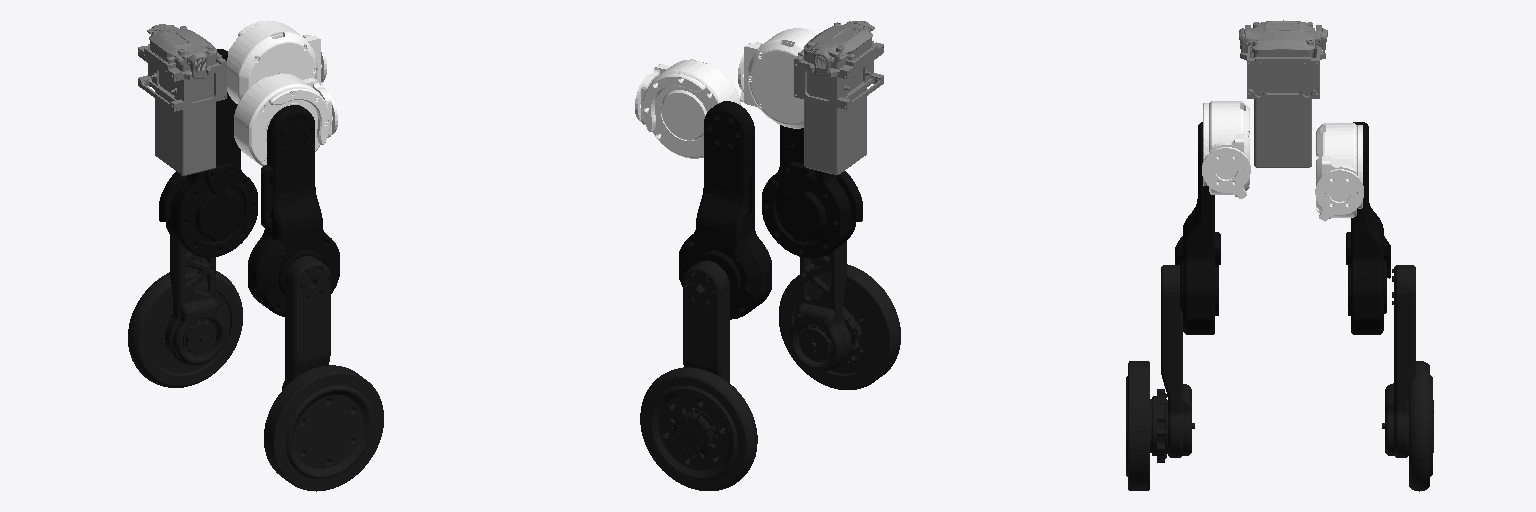
The robot description file, URDF, robot "pineapple_v1":
<?xml version="1.0" encoding="utf-8"?>
<!-- This URDF was automatically created by SolidWorks to URDF Exporter! Originally created by Stephen Brawner (brawner@gmail.com) 
     Commit Version: 1.6.0-4-g7f85cfe  Build Version: 1.6.7995.38578
     For more information, please see http://wiki.ros.org/sw_urdf_exporter -->
<robot
  name="pineapple_v1">
  <mujoco>
    <compiler
      meshdir="v1/meshes"
      balanceinertia="true"
      discardvisual="false" />
  </mujoco>
  <link
    name="base_link">
    <inertial>  
      <origin
        xyz="0.03425855 0.00006357 0.07778567"
        rpy="0 0 0" />
      <mass
        value="2.99" />
      <inertia
        ixx="0.01519872"
        ixy="0.000007367"
        ixz="0.00256248"
        iyy="0.02158004"
        iyz="-0.00001102"
        izz="0.02428081" />
    </inertial>
    <visual>
      <origin
        xyz="0 0 0"
        rpy="0 0 0" />
      <geometry>
        <mesh
          filename="package://v1/meshes/base_link.STL" />
      </geometry>
      <material
        name="">
        <color
          rgba="0.1451 0.1451 0.1451 1" />
      </material>
    </visual>
    <collision>
      <origin
        xyz="0.0075 0 0.05"
        rpy="0 0 0" />
      <geometry>
        <box size="0.255 0.1 0.1"/>
      </geometry>
    </collision>
    <collision>
      <origin
        xyz="-0.0285 0 0.130"
        rpy="0 0 0" />
      <geometry>
        <box size="0.213 0.125 0.06"/>
      </geometry>
    </collision>
    <collision>
      <origin
        xyz="0.078 -0.075 0.05"
        rpy="0 0 0" />
      <geometry>
        <box size="0.05 0.05 0.1"/>
      </geometry>
    </collision>
    <collision>
      <origin
        xyz="0.078 0.075 0.05"
        rpy="0 0 0" />
      <geometry>
        <box size="0.05 0.05 0.1"/>
      </geometry>
    </collision>
  </link>
  <link
    name="battery">
    <inertial>
      <origin
        xyz="-0.095007 -3.4328E-06 0.093415"
        rpy="0 0 0" />
      <mass
        value="0.64" />
      <inertia
        ixx="0.00147269"
        ixy="0.0"
        ixz="0.00003683"
        iyy="0.00136181"
        iyz="0.00000013"
        izz="0.00038215" />
    </inertial>
    <visual>
      <origin
        xyz="0 0 0"
        rpy="0 0 0" />
      <geometry>
        <mesh
          filename="package://v1/meshes/battery.STL" />
      </geometry>
      <material
        name="">
        <color
          rgba="0.53725 0.53725 0.53725 1" />
      </material>
    </visual>
  </link>
  <joint
    name="battery_fix"
    type="fixed">
    <origin
      xyz="0 0 0"
      rpy="0 0 0" />
    <parent
      link="base_link" />
    <child
      link="battery" />
    <axis
      xyz="0 0 0" />
  </joint>
  <link
    name="L_hip">
    <inertial>
      <origin
        xyz="-0.054201 -0.0016168 0.00050585"
        rpy="0 0 0" />
      <mass
        value="0.585" />
      <inertia
        ixx="0.00045956"
        ixy="-0.00000742"
        ixz="-0.00000128"
        iyy="0.00077661"
        iyz="0.00000917"
        izz="0.00050968"/>
    </inertial>
    <visual>
      <origin
        xyz="0 0 0"
        rpy="0 0 0" />
      <geometry>
        <mesh
          filename="package://v1/meshes/L_hip.STL" />
      </geometry>
      <material
        name="">
        <color
          rgba="1 1 1 1" />
      </material>
    </visual>
  </link>
  <joint
    name="L_hip_joint"
    type="revolute">
    <origin
      xyz="0.047159 0.06125 0.066001"
      rpy="0 0 0" />
    <parent
      link="base_link" />
    <child
      link="L_hip" />
    <axis
      xyz="1 0 0" />
    <limit
      lower="-0.52358"
      upper="0.17444"
      effort="23.7"
      velocity="30.1" />
  </joint>
  <link
    name="L_thigh">
    <inertial>
      <origin
        xyz="-0.0014005 0.015871 -0.13295"
        rpy="0 0 0" />
      <mass
        value="0.911" />
      <inertia
        ixx="0.00359239"
        ixy="0.00001718"
        ixz="-0.00000539"
        iyy="0.00399866"
        iyz="0.00016395"
        izz="0.00085307" />
    </inertial>
    <visual>
      <origin
        xyz="0 0 0"
        rpy="0 0 0" />
      <geometry>
        <mesh
          filename="package://v1/meshes/L_thigh.STL" />
      </geometry>
      <material
        name="">
        <color
          rgba="0.098039 0.098039 0.098039 1" />
      </material>
    </visual>
    <collision>
      <origin
        xyz="0.0003 0.0095 -0.049"
        rpy="0 0 0" />
      <geometry>
       <box size="0.055 0.019 0.12"/>
      </geometry>
    </collision>
    <collision>
      <origin
        xyz="0 0.0175 -0.165"
        rpy="1.5707963267948966 0 0" />
      <geometry>
       <cylinder radius="0.0515" length="0.035"/>
      </geometry>
    </collision>
  </link>
  <joint
    name="L_thigh_joint"
    type="revolute">
    <origin
      xyz="-0.05675 0.01995 0"
      rpy="0 0 0" />
    <parent
      link="L_hip" />
    <child
      link="L_thigh" />
    <axis
      xyz="0 1 0" />
    <limit
      lower="0"
      upper="1.57"
      effort="23.7"
      velocity="30.1" />
  </joint>
  <link
    name="L_calf">
    <inertial>
      <origin
        xyz="-7.3933E-05 0.014526 -0.11981"
        rpy="0 0 0" />
      <mass
        value="0.567" />
      <inertia
        ixx="0.00246258"
        ixy="-0.00000032"
        ixz="0.00000235"
        iyy="0.00252067"
        iyz="0.00007208"
        izz="0.00022736" />
    </inertial>
    <visual>
      <origin
        xyz="0 0 0"
        rpy="0 0 0" />
      <geometry>
        <mesh
          filename="package://v1/meshes/L_calf.STL" />
      </geometry>
      <material
        name="">
        <color
          rgba="0.1451 0.1451 0.1451 1" />
      </material>
    </visual>
    <collision>
      <origin
        xyz="-0.0006 0.0118 -0.0465"
        rpy="0 0 0" />
      <geometry>
        <box size="0.048 0.0236 0.093"/>
      </geometry>
    </collision>
  </link>
  <joint
    name="L_calf_joint"
    type="revolute">
    <origin
      xyz="0 0.0383 -0.165"
      rpy="0 0 0" />
    <parent
      link="L_thigh" />
    <child
      link="L_calf" />
    <axis
      xyz="0 1 0" />
    <limit
      lower="-3.141"
      upper="0"
      effort="23.7"
      velocity="30.1" />
  </joint>
  <link
    name="L_wheel">
    <inertial>
      <origin
        xyz="2.7442E-11 0.0095126 -9.3096E-11"
        rpy="0 0 0" />
      <mass
        value="0.35" />
      <inertia
        ixx="0.00056018"
        ixy="0"
        ixz="0"
        iyy="0.00108926"
        iyz="0"
        izz="0.00056018" />
    </inertial>
    <visual>
      <origin
        xyz="0 0 0"
        rpy="0 0 0" />
      <geometry>
        <mesh
          filename="package://v1/meshes/L_wheel.STL" />
      </geometry>
      <material
        name="">
        <color
          rgba="0.15294 0.15294 0.15294 1" />
      </material>
    </visual>
    <collision>
      <origin
        xyz="0 0.0085 0"
        rpy="1.5707963267948966 0 0" />
      <geometry>
        <cylinder radius="0.07" length="0.023"/>
      </geometry>
    </collision>
  </link>
  <joint
    name="L_wheel_joint"
    type="revolute">
    <origin
      xyz="0 0.02705 -0.165"
      rpy="0 0 0" />
    <parent
      link="L_calf" />
    <child
      link="L_wheel" />
    <axis
      xyz="0 1 0" />
    <limit
      effort="3.69"
      velocity="60" />
  </joint>
  <link
    name="R_hip">
    <inertial>
      <origin
        xyz="-0.054201 0.0016168 0.00050585"
        rpy="0 0 0" />
      <mass
        value="0.585" />
      <inertia
        ixx="0.00045956"
        ixy="0.00000742"
        ixz="-0.00000128"
        iyy="0.00077661"
        iyz="0.00000917"
        izz="0.00050968" />
    </inertial>
    <visual>
      <origin
        xyz="0 0 0"
        rpy="0 0 0" />
      <geometry>
        <mesh
          filename="package://v1/meshes/R_hip.STL" />
      </geometry>
      <material
        name="">
        <color
          rgba="1 1 1 1" />
      </material>
    </visual>
  </link>
  <joint
    name="R_hip_joint"
    type="revolute">
    <origin
      xyz="0.047159 -0.06125 0.066001"
      rpy="0 0 0" />
    <parent
      link="base_link" />
    <child
      link="R_hip" />
    <axis
      xyz="1 0 0" />
    <limit
      lower="-0.17444"
      upper="0.52358"
      effort="23.7"
      velocity="30.1" />
  </joint>
  <link
    name="R_thigh">
    <inertial>
      <origin
        xyz="-0.0014005 -0.015871 -0.13295"
        rpy="0 0 0" />
      <mass
        value="0.911" />
      <inertia
        ixx="0.00359239"
        ixy="0.00001718"
        ixz="0.00000539"
        iyy="0.00399866"
        iyz="0.00016395"
        izz="0.00085307" />
    </inertial>
    <visual>
      <origin
        xyz="0 0 0"
        rpy="0 0 0" />
      <geometry>
        <mesh
          filename="package://v1/meshes/R_thigh.STL" />
      </geometry>
      <material
        name="">
        <color
          rgba="0.098039 0.098039 0.098039 1" />
      </material>
    </visual>
    <collision>
      <origin
        xyz="0.0003 -0.0095 -0.049"
        rpy="0 0 0" />
      <geometry>
       <box size="0.055 0.019 0.12"/>
      </geometry>
    </collision>
    <collision>
      <origin
        xyz="0 -0.0175 -0.165"
        rpy="1.5707963267948966 0 0" />
      <geometry>
       <cylinder radius="0.0515" length="0.035"/>
      </geometry>
    </collision>
  </link>
  <joint
    name="R_thigh_joint"
    type="revolute">
    <origin
      xyz="-0.05675 -0.01995 0"
      rpy="0 0 0" />
    <parent
      link="R_hip" />
    <child
      link="R_thigh" />
    <axis
      xyz="0 1 0" />
    <limit
      lower="0"
      upper="1.57"
      effort="23.7"
      velocity="30.1" />
  </joint>
  <link
    name="R_calf">
    <inertial>
      <origin
        xyz="-7.3779E-05 -0.014526 -0.11981"
        rpy="0 0 0" />
      <mass
        value="0.567" />
      <inertia
        ixx="0.00246258"
        ixy="-0.00000032"
        ixz="-0.00000235"
        iyy="0.00252067"
        iyz="0.00007208"
        izz="0.00022736"  />
    </inertial>
    <visual>
      <origin
        xyz="0 0 0"
        rpy="0 0 0" />
      <geometry>
        <mesh
          filename="package://v1/meshes/R_calf.STL" />
      </geometry>
      <material
        name="">
        <color
          rgba="0.1451 0.1451 0.1451 1" />
      </material>
    </visual>
    <collision>
      <origin
        xyz="-0.0006 -0.0118 -0.0465"
        rpy="0 0 0" />
      <geometry>
        <box size="0.048 0.0236 0.093"/>
      </geometry>
    </collision>
  </link>
  <joint
    name="R_calf_joint"
    type="revolute">
    <origin
      xyz="0 -0.0383 -0.165"
      rpy="0 0 0" />
    <parent
      link="R_thigh" />
    <child
      link="R_calf" />
    <axis
      xyz="0 1 0" />
    <limit
      lower="-3.141"
      upper="0"
      effort="23.7"
      velocity="30.1" />
  </joint>
  <link
    name="R_wheel">
    <inertial>
      <origin
        xyz="2.8013E-11 -0.0095126 -9.34E-11"
        rpy="0 0 0" />
      <mass
        value="0.35" />
      <inertia
        ixx="0.00056018"
        ixy="0"
        ixz="0"
        iyy="0.00108926"
        iyz="0"
        izz="0.00056018" />
    </inertial>
    <visual>
      <origin
        xyz="0 0 0"
        rpy="0 0 0" />
      <geometry>
        <mesh
          filename="package://v1/meshes/R_wheel.STL" />
      </geometry>
      <material
        name="">
        <color
          rgba="0.15294 0.15294 0.15294 1" />
      </material>
    </visual>
    <collision>
      <origin
        xyz="0 -0.0085 0"
        rpy="1.5707963267948966 0 0" />
      <geometry>
        <cylinder radius="0.07" length="0.023"/>
      </geometry>
    </collision>
  </link>
  <joint
    name="R_wheel_joint"
    type="revolute">
    <origin
      xyz="0 -0.02705 -0.165"
      rpy="0 0 0" />
    <parent
      link="R_calf" />
    <child
      link="R_wheel" />
    <axis
      xyz="0 1 0" />
    <limit
      effort="3.69"
      velocity="60" />
  </joint>
</robot>

--- Render facts (derived) ---
The picture shows the robot from 3 angles, left to right: view 1: azimuth 30°, elevation 25°; view 2: azimuth 150°, elevation 25°; view 3: azimuth 270°, elevation 25°; orthographic projection.
Model pineapple_v1 with 10 links and 9 joints (8 revolute, 1 fixed), rooted at base_link, posed all joints at 0.
Links seen in each view (by area): view 1: R_wheel, R_thigh, battery, L_thigh, L_wheel, L_calf, L_hip, R_calf, R_hip; view 2: L_thigh, battery, L_wheel, R_thigh, L_calf, L_hip, R_wheel, R_calf, R_hip; view 3: battery, R_calf, R_thigh, L_thigh, L_calf, L_hip, R_hip, R_wheel, L_wheel.
Link boxes in pixels (x1,y1,x2,y2): R_wheel: (264, 365, 383, 491); R_thigh: (248, 105, 339, 316); battery: (138, 24, 226, 175); L_thigh: (159, 49, 257, 257); L_wheel: (128, 271, 242, 387); L_calf: (160, 235, 225, 365); L_hip: (227, 20, 326, 103); R_calf: (282, 256, 330, 389); R_hip: (234, 73, 337, 166); L_thigh: (679, 101, 771, 319); battery: (794, 21, 883, 174); L_wheel: (640, 367, 757, 490); R_thigh: (762, 125, 862, 258); L_calf: (669, 260, 729, 458); L_hip: (635, 59, 740, 158); R_wheel: (779, 264, 900, 389); R_calf: (789, 241, 861, 371); R_hip: (738, 28, 817, 128); battery: (1239, 20, 1327, 167); R_calf: (1150, 265, 1194, 462); R_thigh: (1175, 122, 1220, 334); L_thigh: (1346, 122, 1390, 334); L_calf: (1382, 265, 1433, 457); L_hip: (1315, 123, 1363, 221); R_hip: (1202, 101, 1250, 198); R_wheel: (1126, 361, 1149, 490); L_wheel: (1409, 361, 1432, 491).
Bounding box of the posed robot: 0.2356 × 0.3321 × 0.501 m (x, y, z).
Meshes: 10 distinct files referenced, 9 mesh visuals loaded (9 binary STL); not drawn: 1 (reference not matched to a file when rendering).
